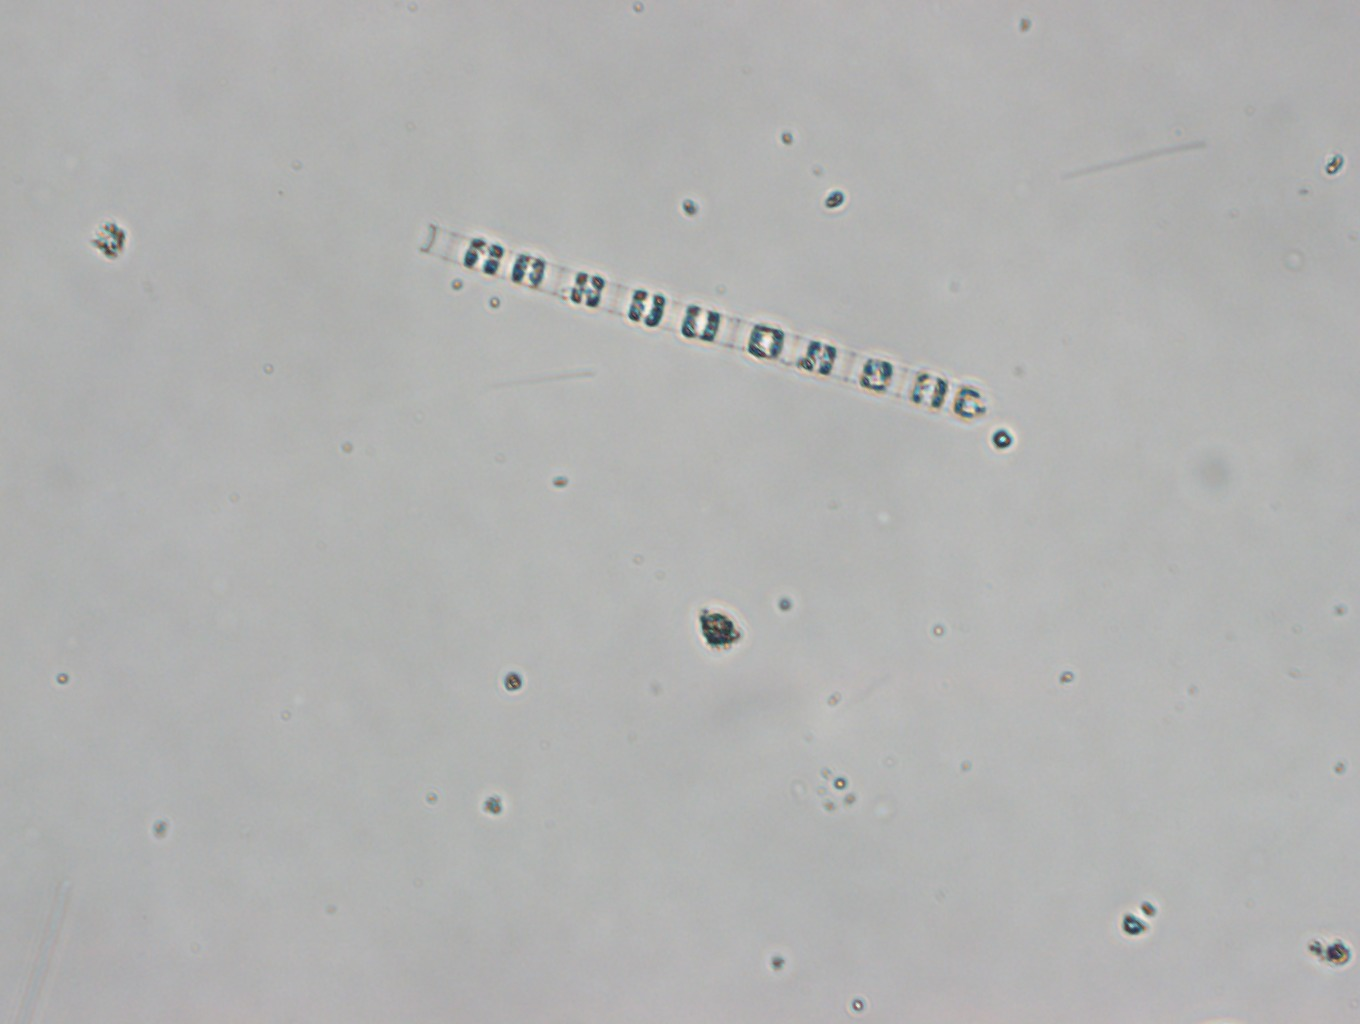skeletonema: (411, 224, 988, 421)
